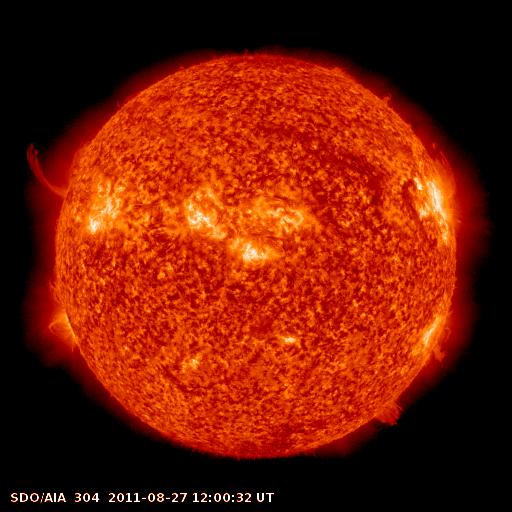prominence: (19, 126, 73, 208), (427, 137, 464, 204), (367, 392, 410, 436), (419, 323, 458, 364)
